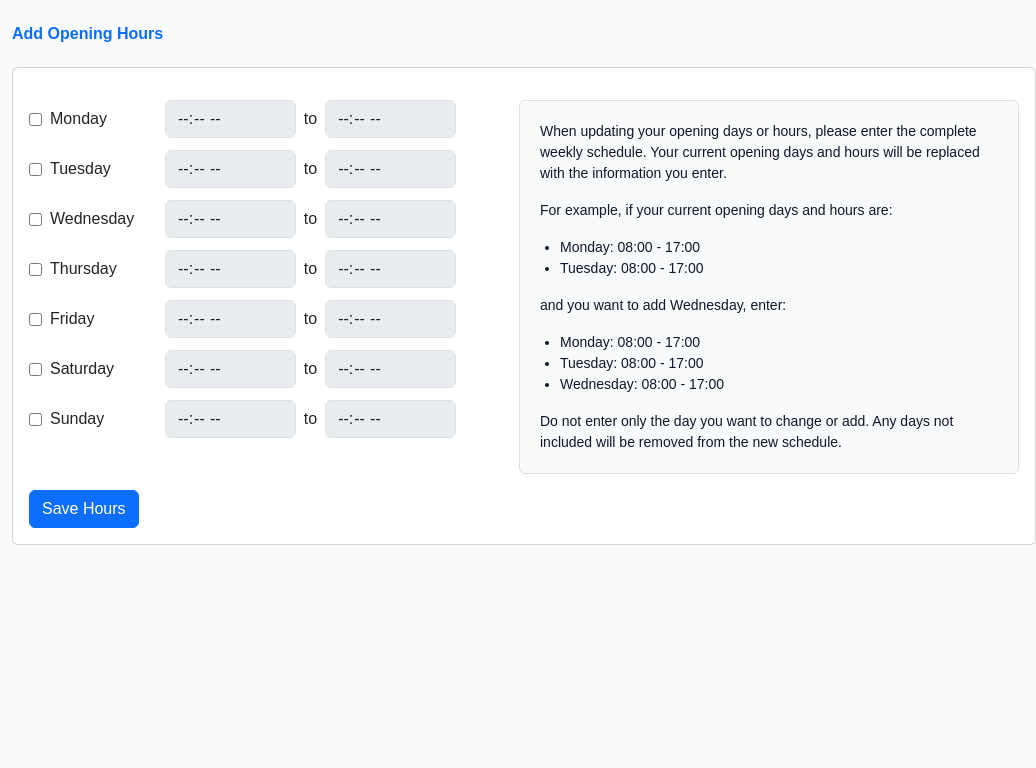
Test case: BusinessHoursManager Component › shows validation error if no days are selected on submit
Click the button "Save Hours".
click(84, 509)  # box [29, 490, 139, 528]
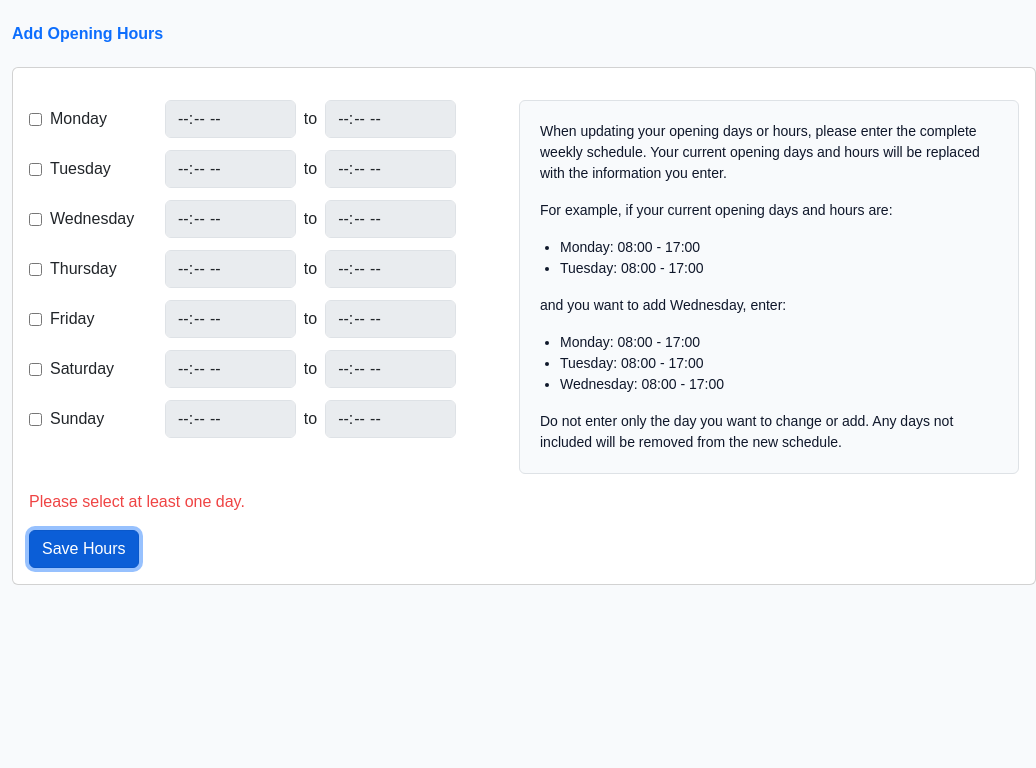
Result: the text "Please select at least one day." is shown at [29, 493, 245, 510]
